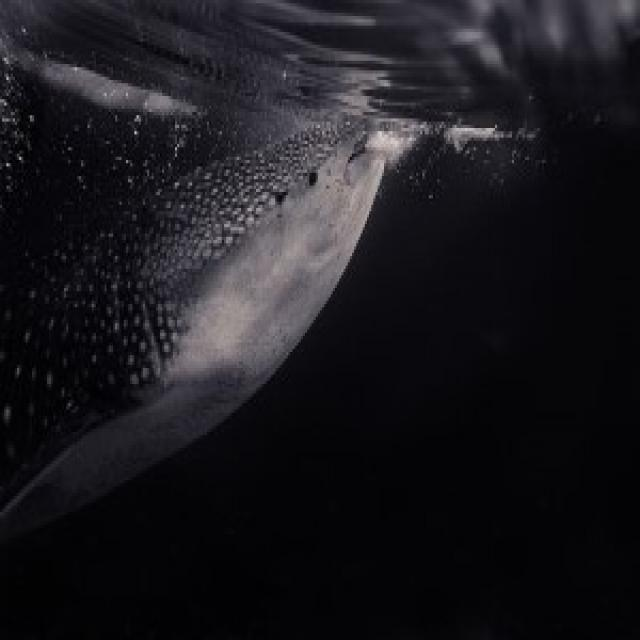Shark: (3, 111, 391, 527)
